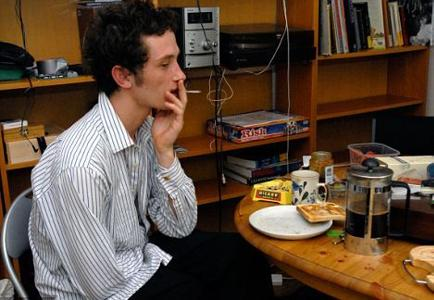person: (30, 6, 200, 300)
